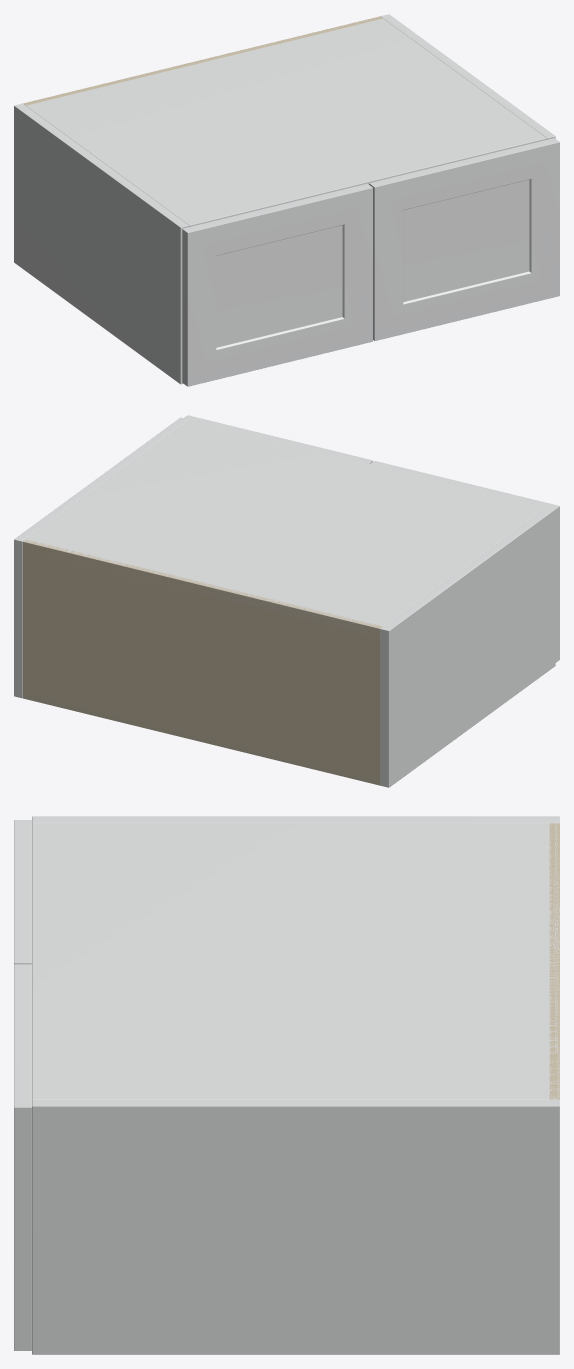
File: PLY-WSS-W301224.glb
3 renders of one model, top to bottom at view 1: azimuth 30°, elevation 25°; view 2: azimuth 150°, elevation 25°; view 3: azimuth 270°, elevation 25°, orthographic. The views are drawn at different scales.
Parts seen in each view (by area): view 1: Carcass top, Shaker door, Shaker door.001, Carcass left, Carcass right, Carcass back; view 2: Carcass top, Carcass back, Carcass left, Carcass right, Carcass bottom, Shaker door, Shaker door.001; view 3: Carcass top, Carcass right, Shaker door.001, Carcass left, Carcass back, Shaker door.
Boxes of the visible parts, x1,y1,x2,y2 form: Carcass top: [23, 16, 546, 226]; Shaker door: [182, 183, 372, 386]; Shaker door.001: [369, 138, 559, 340]; Carcass left: [14, 103, 189, 384]; Carcass right: [380, 14, 555, 139]; Carcass back: [23, 16, 382, 105]; Carcass top: [24, 419, 546, 636]; Carcass back: [23, 539, 382, 785]; Carcass left: [380, 507, 555, 787]; Carcass right: [14, 417, 188, 698]; Carcass bottom: [23, 690, 379, 784]; Shaker door: [371, 461, 559, 662]; Shaker door.001: [184, 415, 372, 463]; Carcass top: [32, 823, 559, 1099]; Carcass right: [32, 1099, 559, 1354]; Shaker door.001: [14, 964, 31, 1350]; Carcass left: [32, 816, 559, 823]; Carcass back: [549, 823, 559, 1099]; Shaker door: [14, 820, 31, 964].
Size of the model in its own units: 0.762 by 0.3048 by 0.6064.
